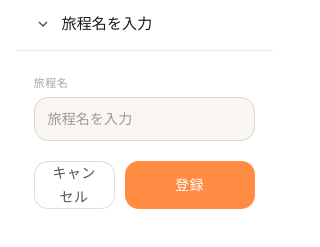
Form › addTrip mode › shows validation error when submitting empty trip name
Step 1. Click the button "登録" → x=190, y=185, box [124,161,254,209]
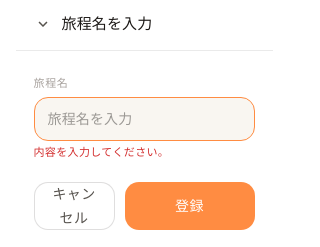
expect the text "内容を入力してください。" is shown: met, box [34,146,169,159]
